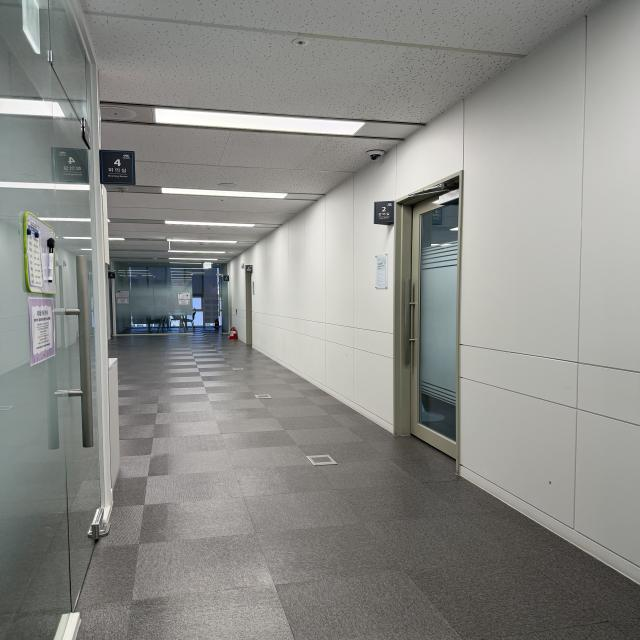room2: (374, 201, 394, 225)
